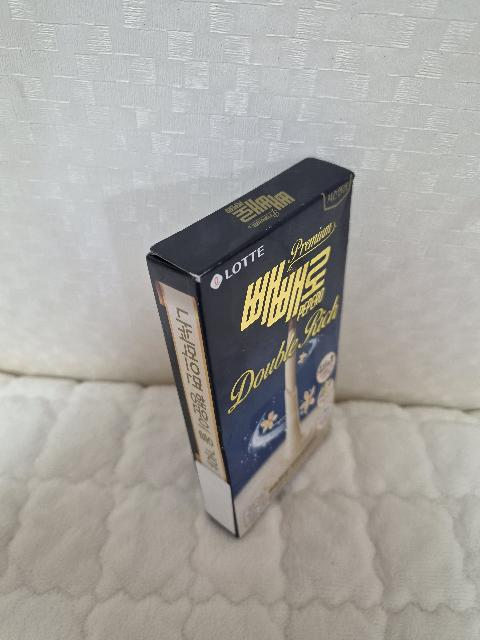pepero: (146, 158, 355, 539)
